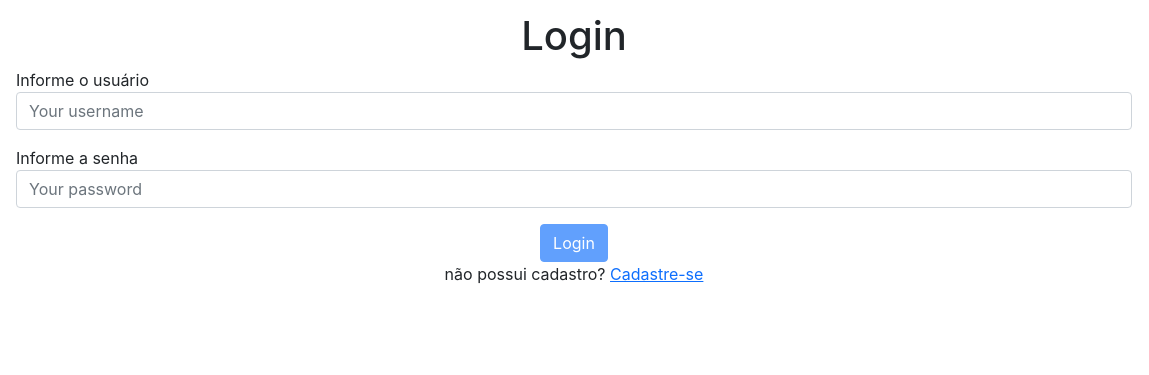
LoginPage › Interactions › clears alert when user changes username
Step 1. Type "my-user-name" into the field with placeholder "Your username" → (574, 111), box 16,92 -> 1132,130
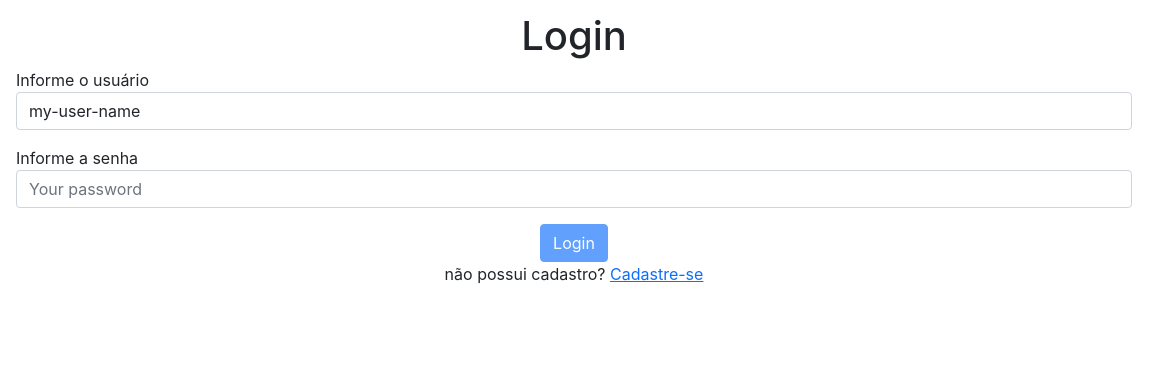
Step 2. Type "P4ssword" into the password field with placeholder "Your password" → (574, 189), box 16,170 -> 1132,208
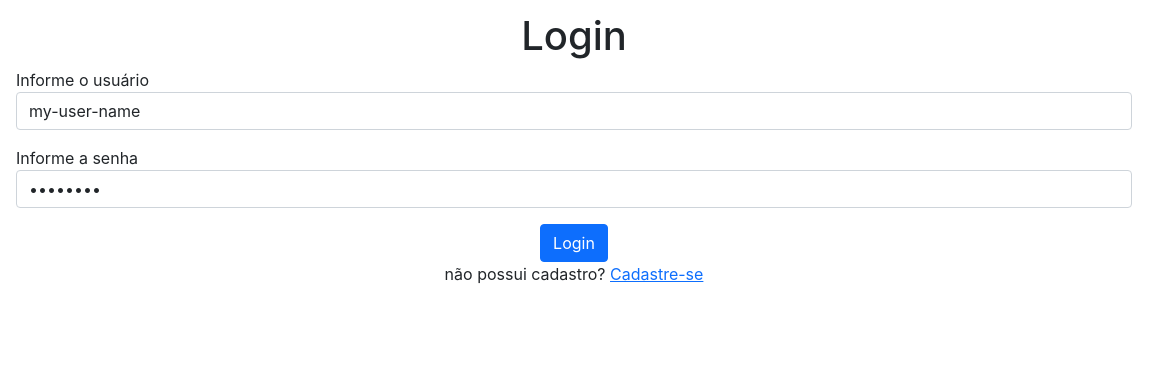
Step 3. Click the button "Login" → click(574, 243), box 540,224 -> 608,262
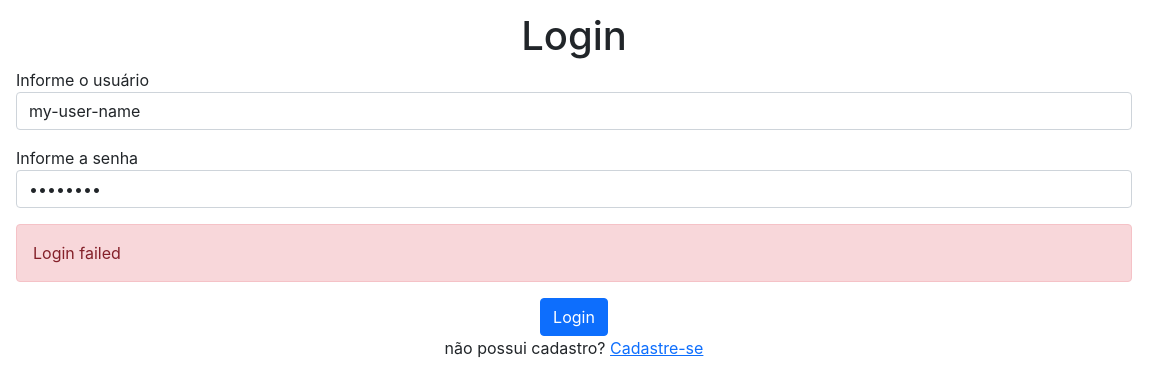
Step 4. Replace the text in the field with placeholder "Your username" with "updated-username" → (574, 111), box 16,92 -> 1132,130
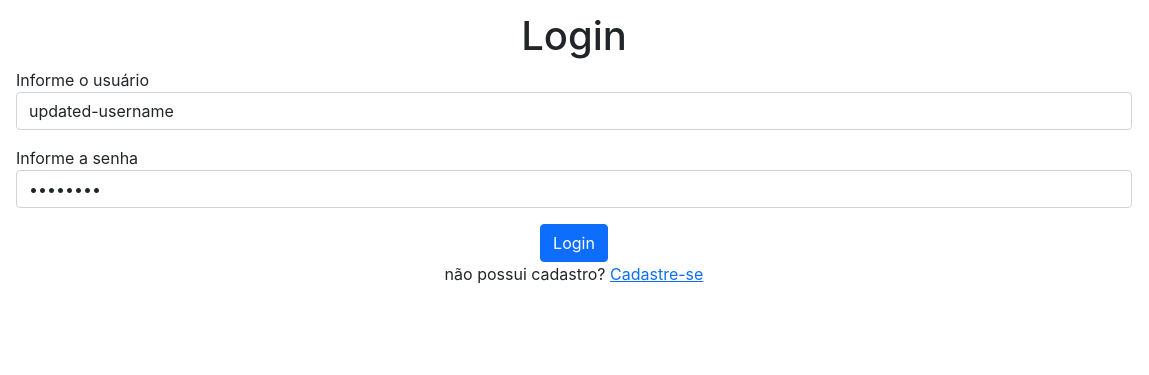
Expected: the text "Login failed" is gone
